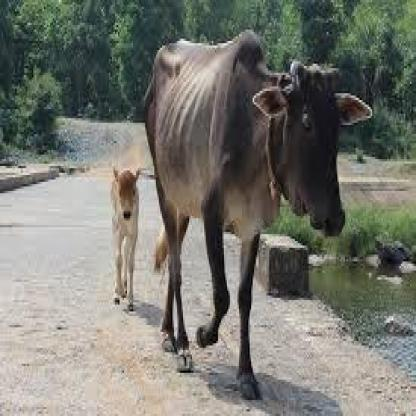cow: (145, 41, 374, 398), (110, 169, 141, 306)
